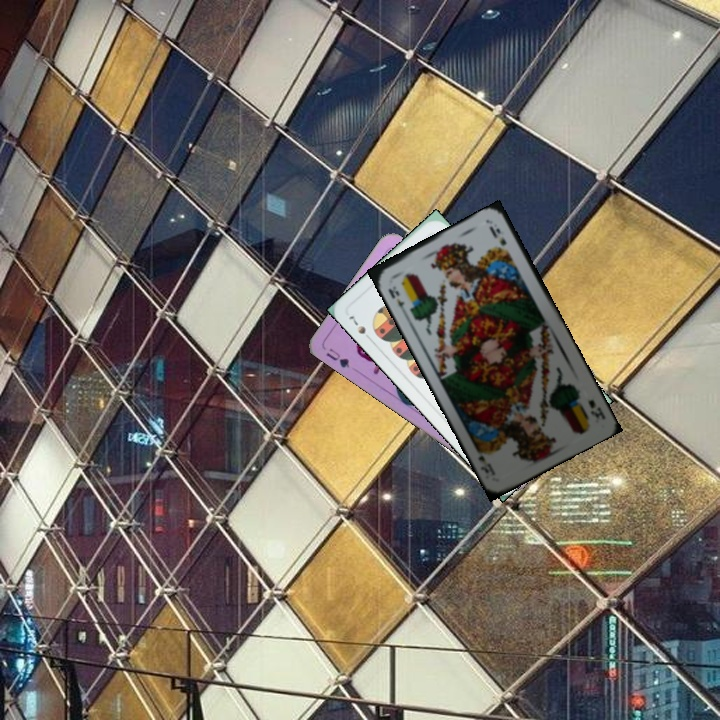EK: (384, 282, 408, 315), (584, 396, 608, 424)
GU: (322, 344, 352, 371)
S7: (344, 312, 375, 344)
